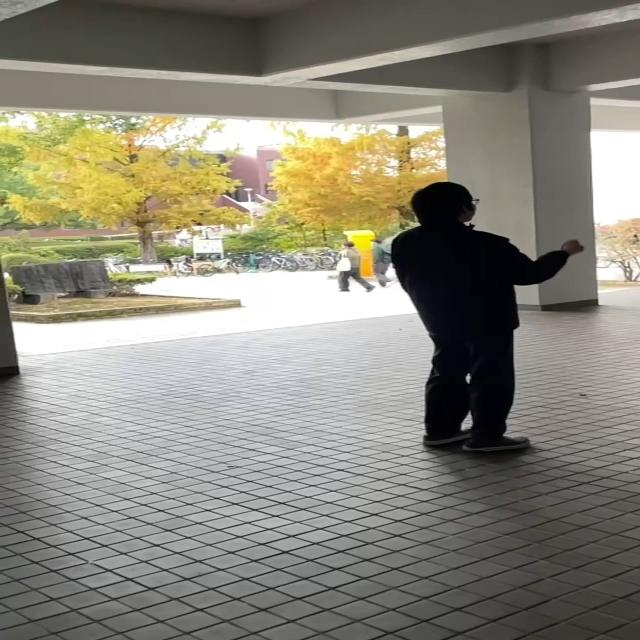paper: (566, 240, 582, 255)
